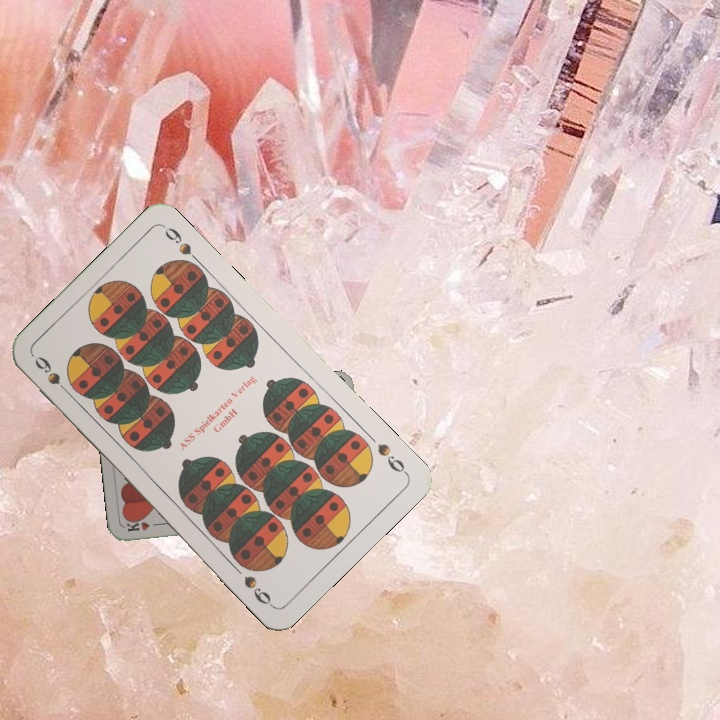HK: (123, 516, 163, 534)
S9: (30, 352, 75, 400), (373, 439, 410, 477)
